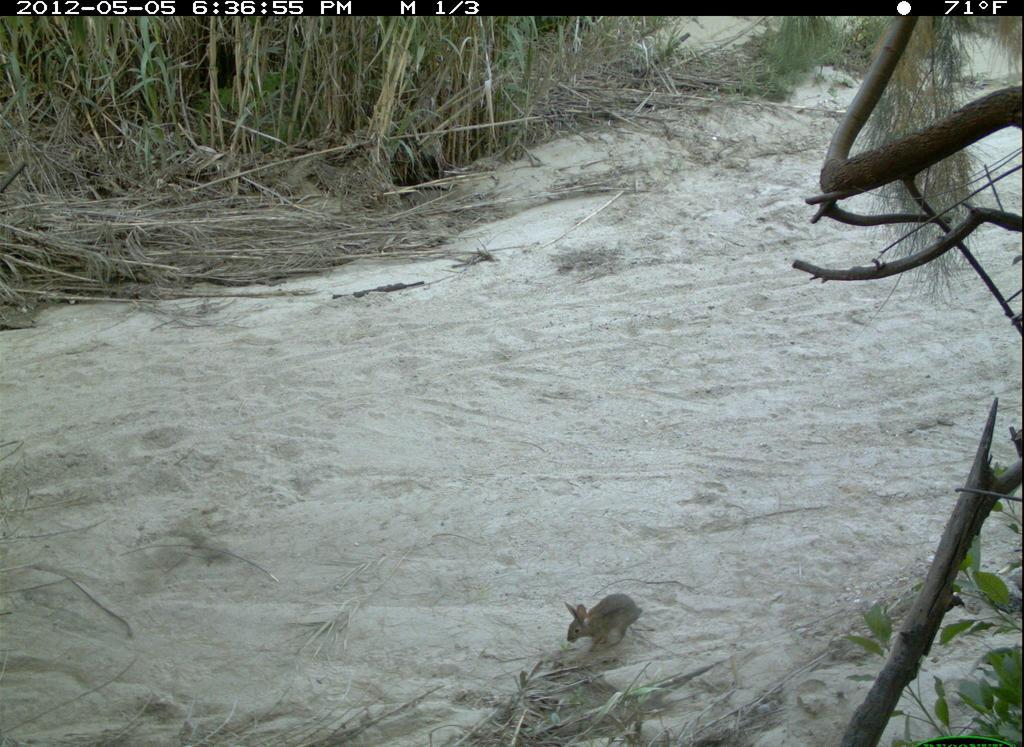rabbit: (559, 592, 660, 657)
